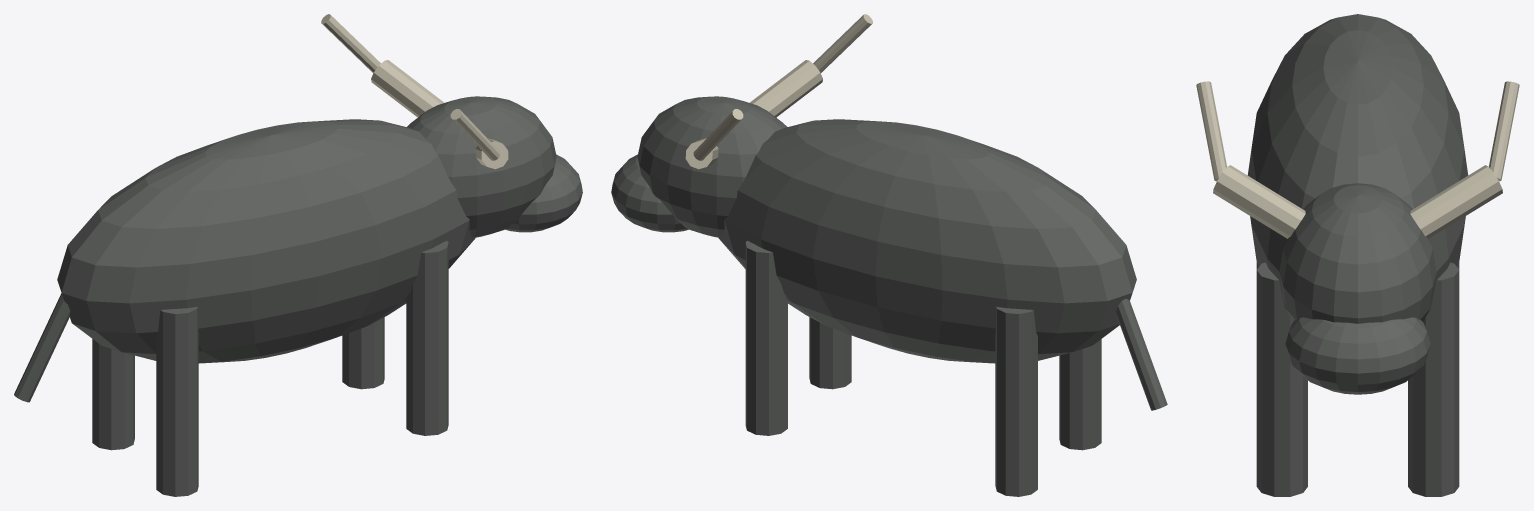
The model's file is buffalo-ultra.glb.
The picture shows the model from 3 angles, left to right: view 1: azimuth 30°, elevation 25°; view 2: azimuth 150°, elevation 25°; view 3: azimuth 270°, elevation 25°; orthographic projection. The views are drawn at different scales.
Visible parts, largest first — view 1: buffalo; view 2: buffalo; view 3: buffalo.
Boxes of the visible parts, x1=… form: buffalo: x1=14, y1=14, x2=582, y2=496; buffalo: x1=611, y1=14, x2=1167, y2=496; buffalo: x1=1196, y1=14, x2=1519, y2=496.
Size of the model in its own units: 2.5 by 1.48 by 1.07.
